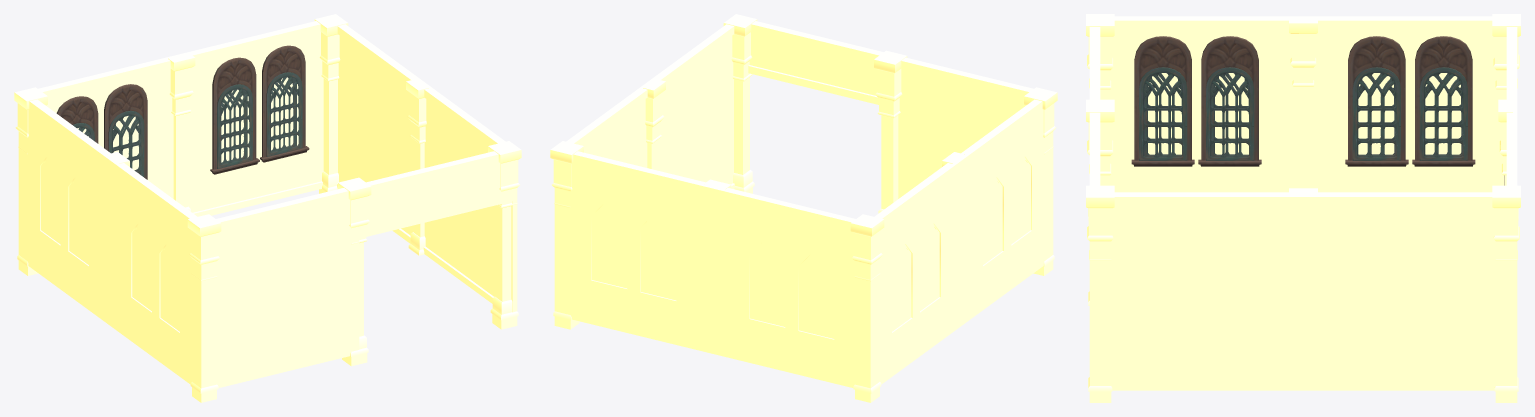
File: Homeworld_Interior_Md_Room_J_Wall_01_Vo.fbx
The picture shows the model from 3 angles, left to right: view 1: azimuth 30°, elevation 25°; view 2: azimuth 150°, elevation 25°; view 3: azimuth 270°, elevation 25°; orthographic projection. The views are drawn at different scales.
Parts seen in each view (by area): view 1: Homeworld_Interior_Md_Room_Wall_02_Vo (×4), Homeworld_Interior_Md_Room_Wall_01_Vo (×3), Homeworld_Interior_Md_Room_Pillar_01_Vo (×5), Homeworld_Interior_Md_Room_J_Filling_01_Vo, Homeworld_Interior_Md_Room_Wall_08_Vo, Homeworld_Interior_Md_Room_Pillar_02_Vo (×2); view 2: Homeworld_Interior_Md_Room_Wall_02_Vo (×4), Homeworld_Interior_Md_Room_Wall_01_Vo (×3), Homeworld_Interior_Md_Room_Pillar_01_Vo (×5), Homeworld_Interior_Md_Room_J_Filling_01_Vo, Homeworld_Interior_Md_Room_Wall_08_Vo, Homeworld_Interior_Md_Room_Pillar_02_Vo; view 3: Homeworld_Interior_Md_Room_Wall_01_Vo (×3), Homeworld_Interior_Md_Room_Wall_02_Vo (×4), Homeworld_Interior_Md_Room_J_Filling_01_Vo, Homeworld_Interior_Md_Room_Pillar_01_Vo (×5), Homeworld_Interior_Md_Room_Pillar_02_Vo (×2), Homeworld_Interior_Md_Room_Wall_08_Vo.
Part boxes in pixels (<box>): Homeworld_Interior_Md_Room_Wall_02_Vo (×4): <box>18,21,323,385</box>; Homeworld_Interior_Md_Room_Wall_01_Vo (×3): <box>198,24,517,388</box>; Homeworld_Interior_Md_Room_Pillar_01_Vo (×5): <box>14,14,521,402</box>; Homeworld_Interior_Md_Room_J_Filling_01_Vo: <box>43,77,298,325</box>; Homeworld_Interior_Md_Room_Wall_08_Vo: <box>359,151,517,238</box>; Homeworld_Interior_Md_Room_Pillar_02_Vo (×2): <box>168,53,428,255</box>; Homeworld_Interior_Md_Room_Wall_02_Vo (×4): <box>559,99,1050,388</box>; Homeworld_Interior_Md_Room_Wall_01_Vo (×3): <box>554,24,1053,312</box>; Homeworld_Interior_Md_Room_Pillar_01_Vo (×5): <box>550,14,1057,402</box>; Homeworld_Interior_Md_Room_J_Filling_01_Vo: <box>595,159,1028,333</box>; Homeworld_Interior_Md_Room_Wall_08_Vo: <box>748,21,883,104</box>; Homeworld_Interior_Md_Room_Pillar_02_Vo: <box>643,79,665,170</box>; Homeworld_Interior_Md_Room_Wall_01_Vo (×3): <box>1089,27,1517,390</box>; Homeworld_Interior_Md_Room_Wall_02_Vo (×4): <box>1108,16,1517,192</box>; Homeworld_Interior_Md_Room_J_Filling_01_Vo: <box>1144,73,1462,156</box>; Homeworld_Interior_Md_Room_Pillar_01_Vo (×5): <box>1086,14,1520,402</box>; Homeworld_Interior_Md_Room_Pillar_02_Vo (×2): <box>1289,17,1512,188</box>; Homeworld_Interior_Md_Room_Wall_08_Vo: <box>1089,112,1100,185</box>.
Size of what is drawn, in the model's own units: 10.17 by 5.34 by 10.17.
